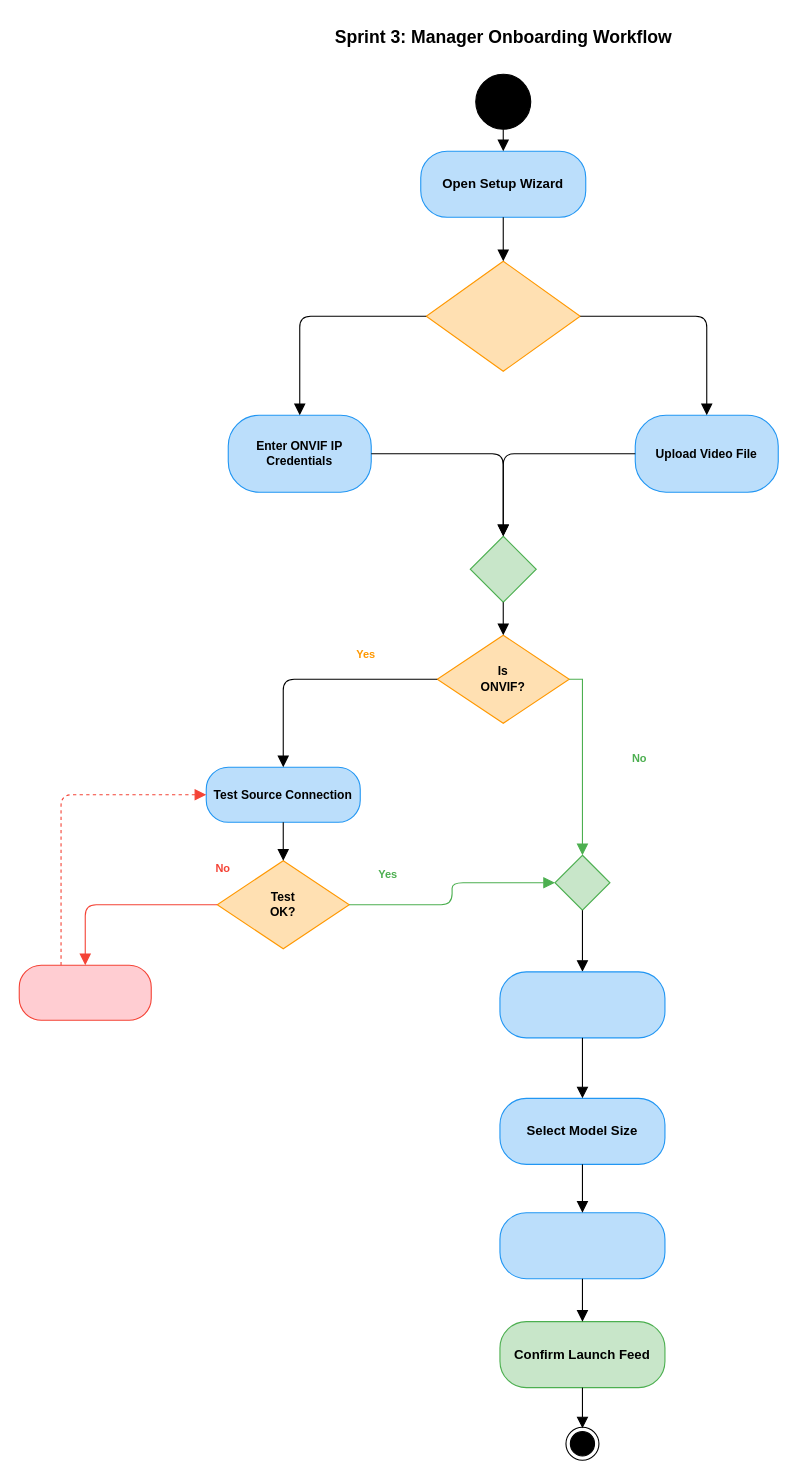
Image size: 798x1480. Some labels were removed from this diagram. The box of each missing label's shape, as (x1, y1, x2, y2) in pixels:
Draw Detection Zone: (499, 971, 665, 1038)
Retry Configuration: (18, 964, 151, 1020)
Review Staged Feed Config: (499, 1212, 665, 1279)
Source Type?: (425, 260, 580, 371)
